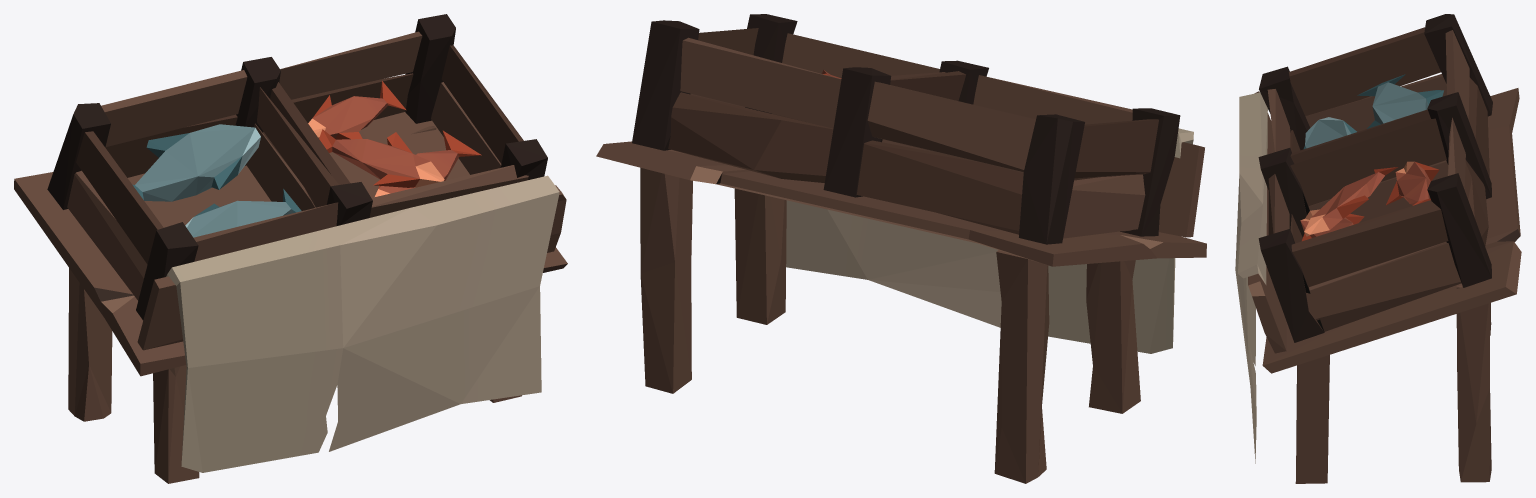
File: SellingGoods_02.glb
3 views of the same model, side by side, from view 1: azimuth 30°, elevation 25°; view 2: azimuth 150°, elevation 25°; view 3: azimuth 270°, elevation 25° (orthographic). The views are drawn at different scales.
Parts seen in each view (by area): view 1: SellingGoods_02; view 2: SellingGoods_02; view 3: SellingGoods_02.
Part boxes in pixels (<box>): SellingGoods_02: <box>14,14,567,483</box>; SellingGoods_02: <box>596,14,1206,483</box>; SellingGoods_02: <box>1235,14,1521,483</box>.
Size of what is drawn, in the model's own units: 1.76 by 1.28 by 1.08.
1 material, 1 textured.
